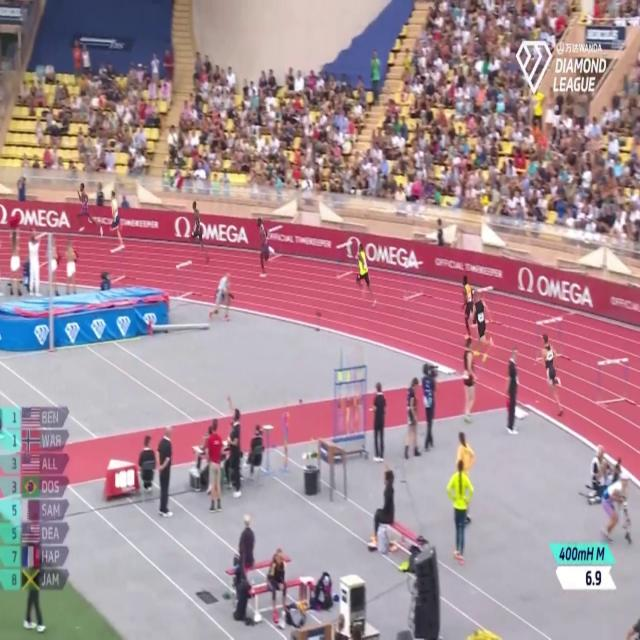athlete: (537, 329, 567, 420), (473, 284, 494, 364), (188, 198, 210, 268), (355, 235, 376, 308), (76, 179, 101, 239), (256, 214, 276, 276), (460, 272, 476, 344), (110, 184, 125, 250)
hurdle: (591, 354, 631, 406), (531, 312, 565, 362), (104, 241, 128, 288), (172, 260, 196, 307), (401, 259, 426, 301), (333, 239, 355, 286), (265, 217, 284, 271)
